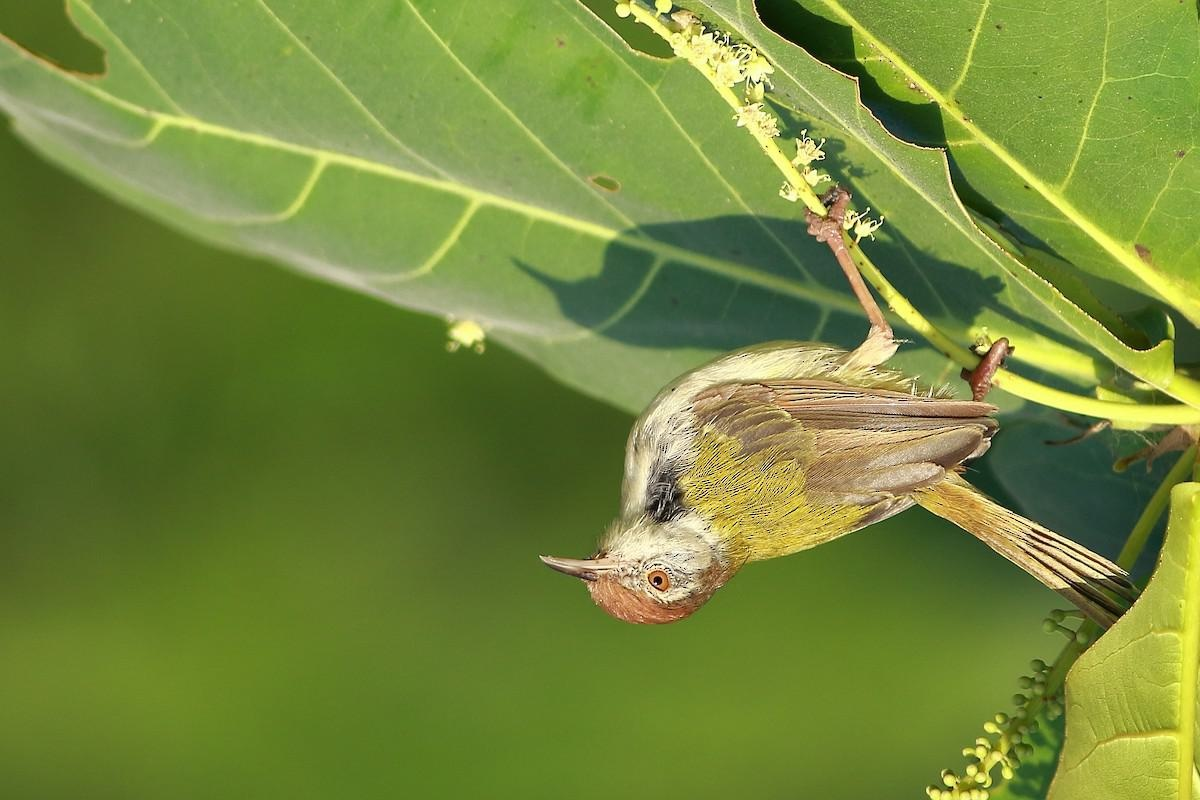tailorbird: (503, 344, 1113, 691)
